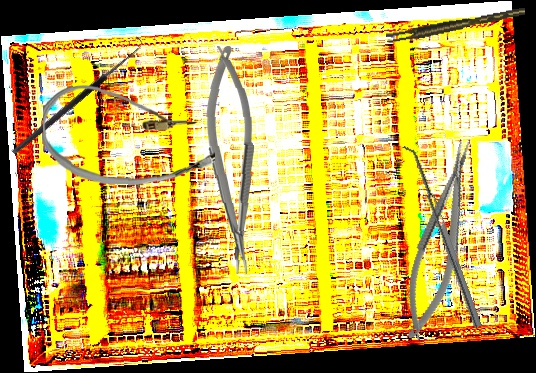Cannula: (40, 83, 218, 188)
Hook Surgical: (6, 35, 146, 156)
Needle Holder: (390, 136, 492, 345), (204, 45, 258, 275)
Spatula Surgical: (401, 142, 482, 331)
Tissue Forceps: (385, 7, 527, 44)
